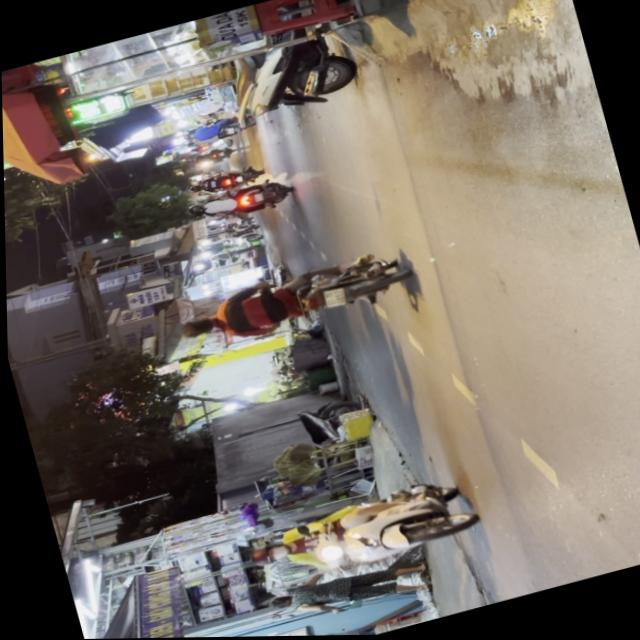helmet: (244, 540, 286, 570)
licenseplate: (235, 470, 480, 595), (165, 244, 413, 359)
motorcyclist: (174, 314, 216, 343)
nohelmet: (320, 288, 344, 310)
